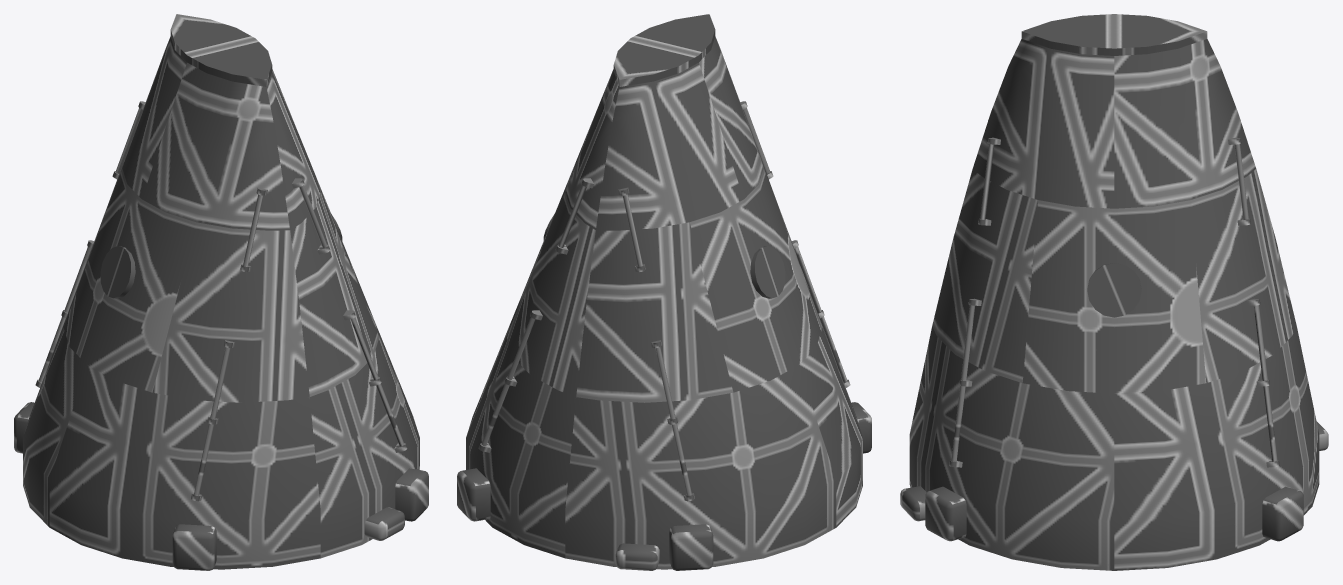
File: spektr cone.obj
3 views of the same model, side by side, from view 1: azimuth 30°, elevation 25°; view 2: azimuth 150°, elevation 25°; view 3: azimuth 270°, elevation 25° (orthographic). The views are drawn at different scales.
Visible parts, largest first — view 1: 1.001; view 2: 1.001; view 3: 1.001.
Part boxes in pixels (left/top/right/bottom): 1.001: left=14, top=14, right=428, bottom=570; 1.001: left=457, top=14, right=871, bottom=570; 1.001: left=900, top=14, right=1328, bottom=570.
Size of the model in its own units: 1.88 by 2.29 by 1.96.
